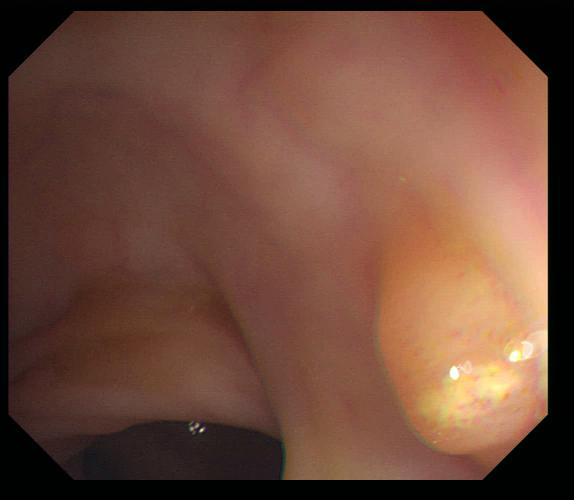polyp: (360, 221, 535, 455)
